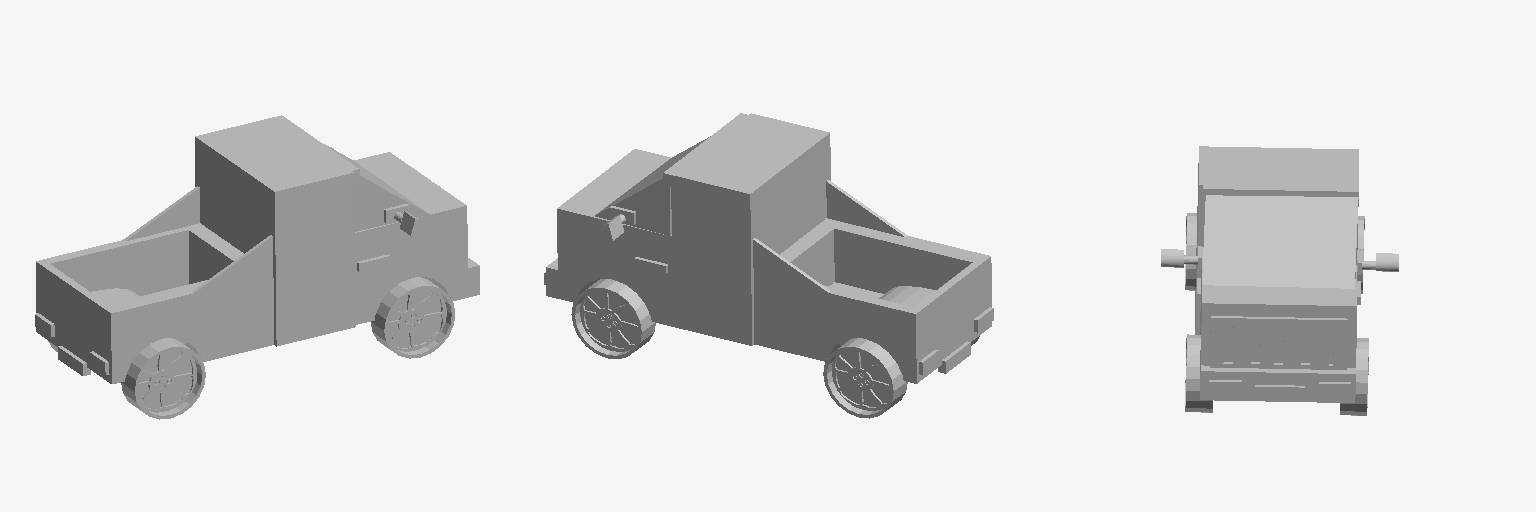
The model's file is Pickup_truck.obj.
3 views of the same model, side by side, from view 1: azimuth 30°, elevation 25°; view 2: azimuth 150°, elevation 25°; view 3: azimuth 270°, elevation 25° (orthographic).
Visible parts, largest first — view 1: obj_0.002; view 2: obj_0.002; view 3: obj_0.002.
Part boxes in pixels (x1,y1,x2,y2): obj_0.002: (35,115,479,419); obj_0.002: (544,113,993,418); obj_0.002: (1161,146,1398,415).
Size of the model in its own units: 95 by 47.8 by 52.06.